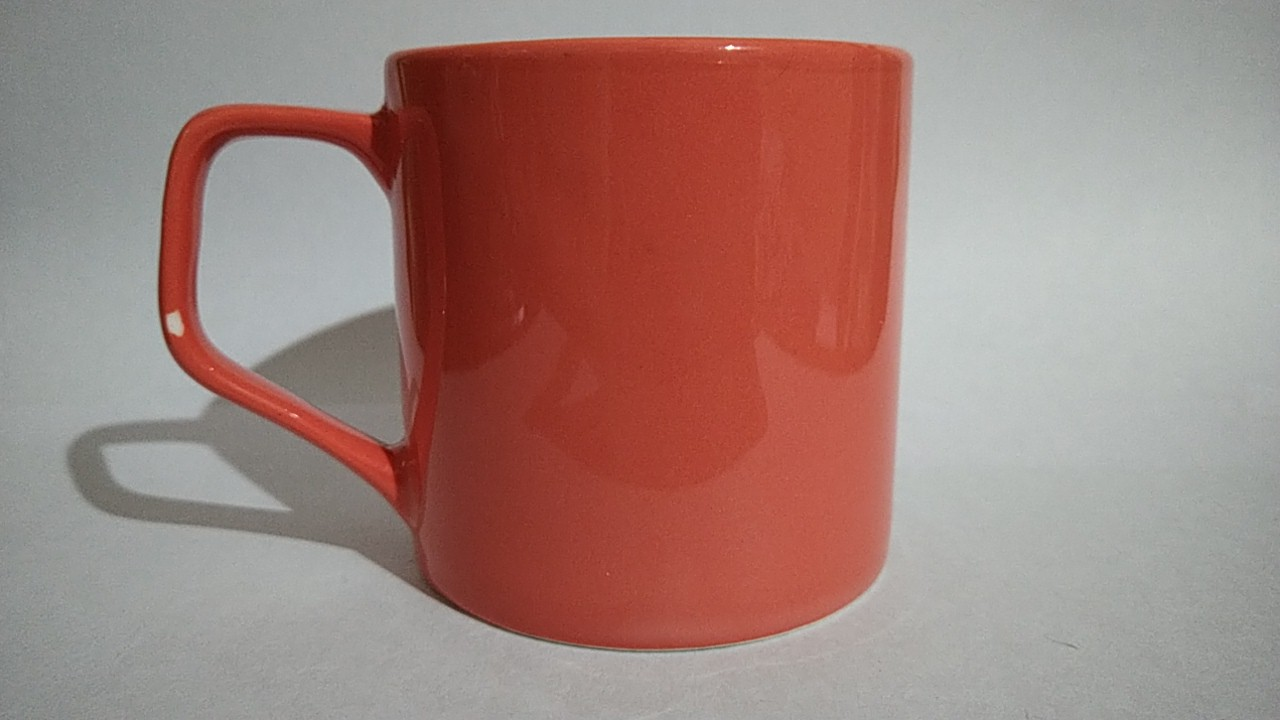cup: (146, 30, 931, 668)
